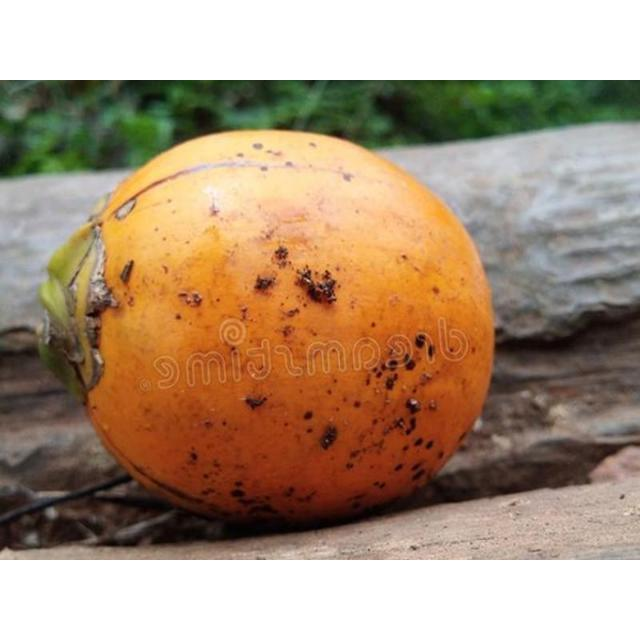good: (38, 130, 496, 532)
